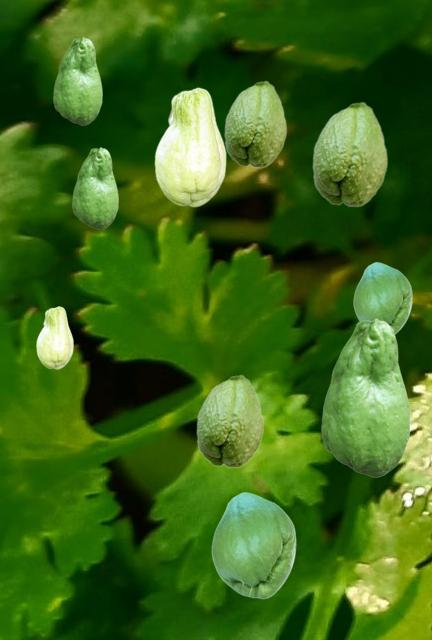sayote: (321, 318, 409, 476), (211, 492, 295, 598), (154, 87, 225, 206), (312, 101, 387, 206), (196, 374, 263, 467), (224, 80, 286, 167), (353, 262, 411, 334), (53, 37, 101, 124), (72, 147, 117, 228), (36, 306, 72, 368)
